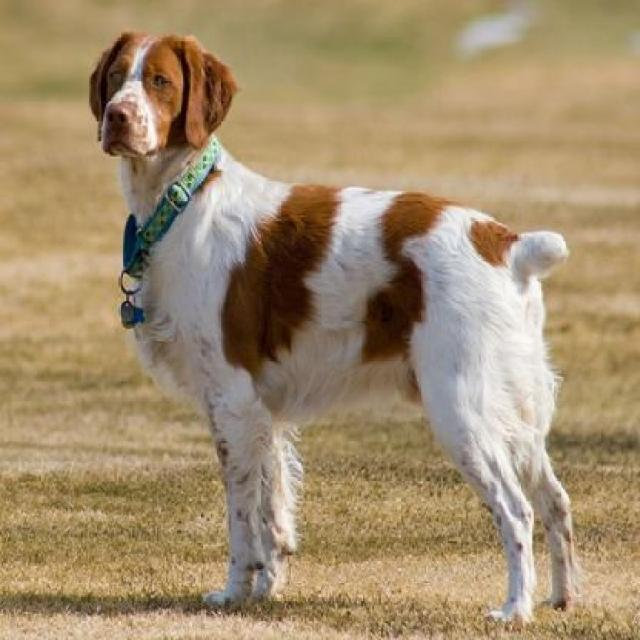animals: (89, 7, 605, 618)
